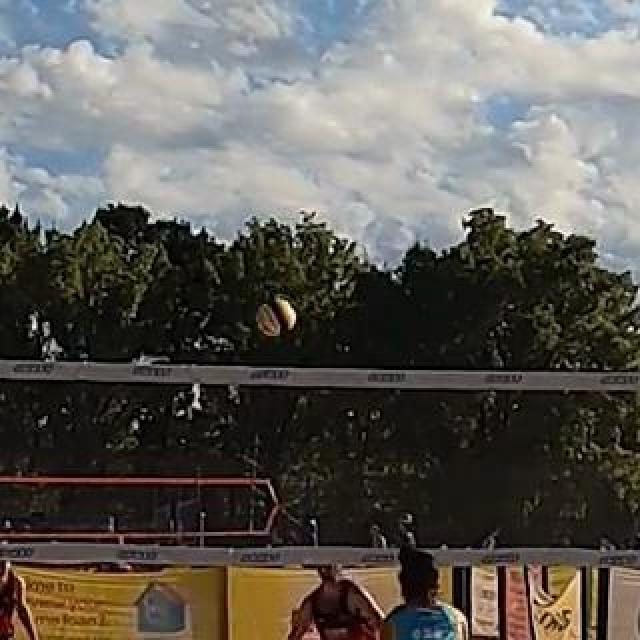volleyball: (256, 299, 296, 339)
